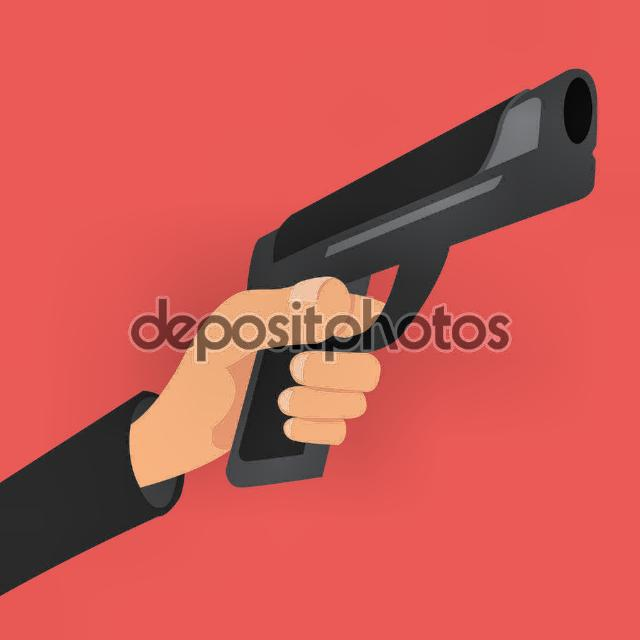pistol: (220, 66, 594, 490)
